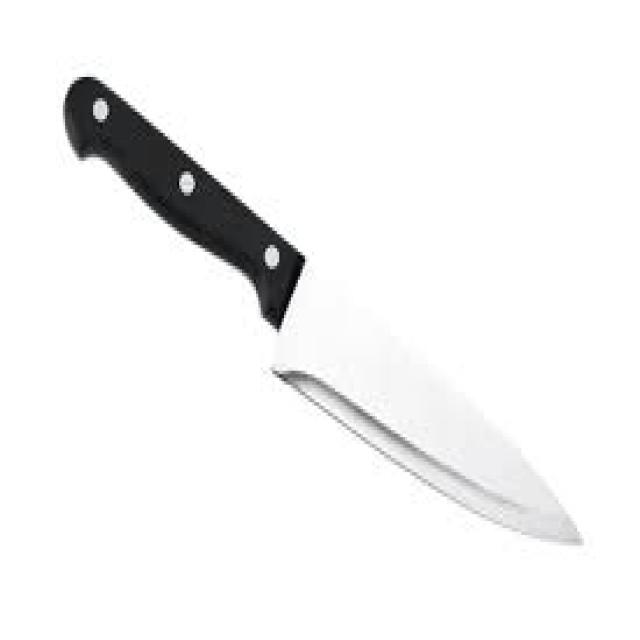Knife: (61, 70, 584, 546)
